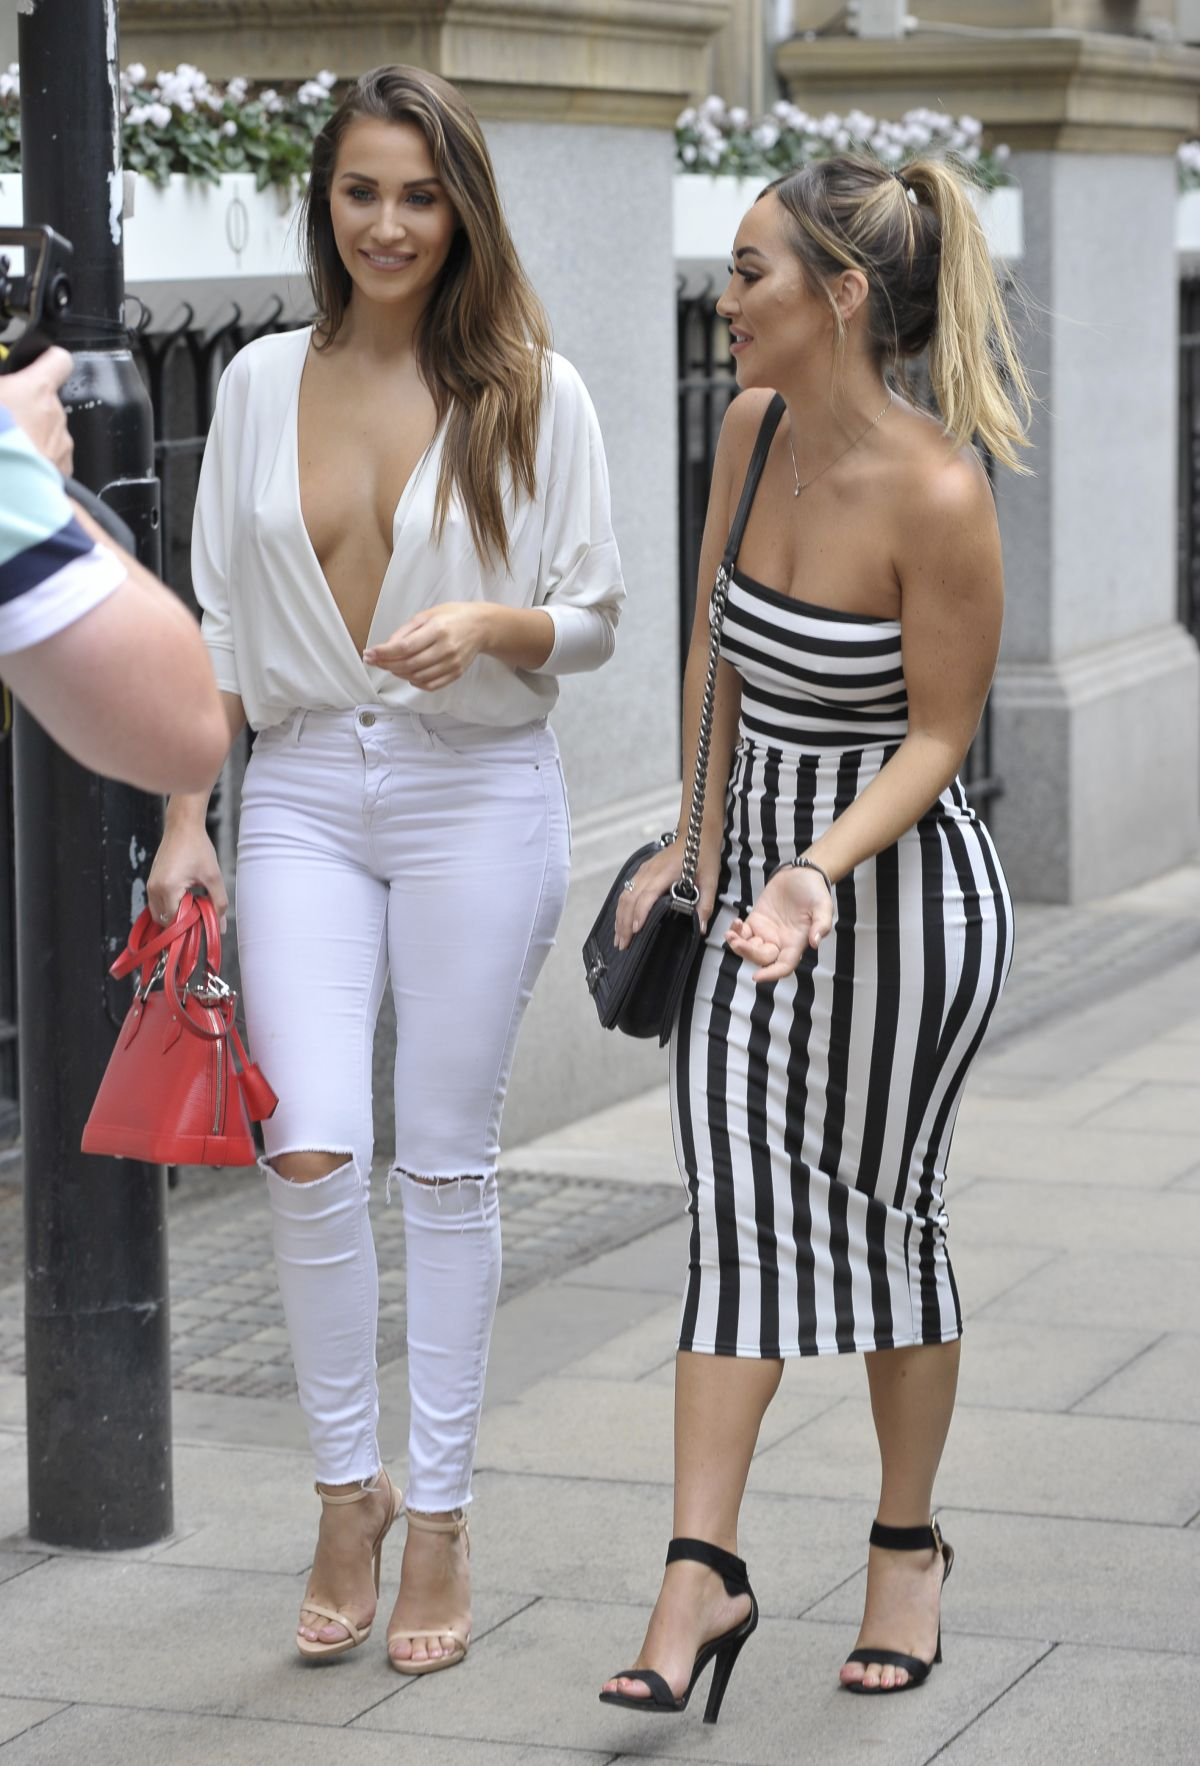Person: (84, 51, 564, 1700)
